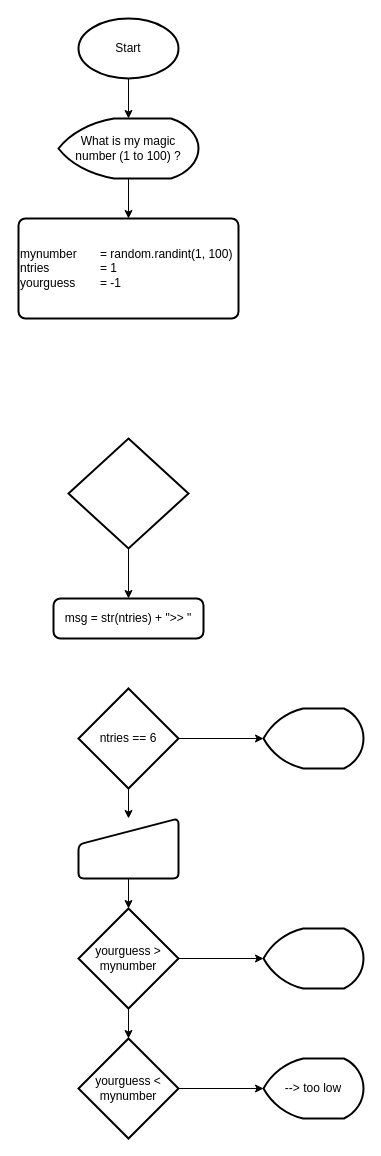
Image size: 381x1156. Some labels were removed from this diagram. The centre of each missing label's shape, as x and y in pixels:
"--> too high" goes at (313,958).
"last time" goes at (313,738).
"ntries < 7 and yourguess != mynumber" goes at (128,493).
"yourguess" goes at (128,848).
